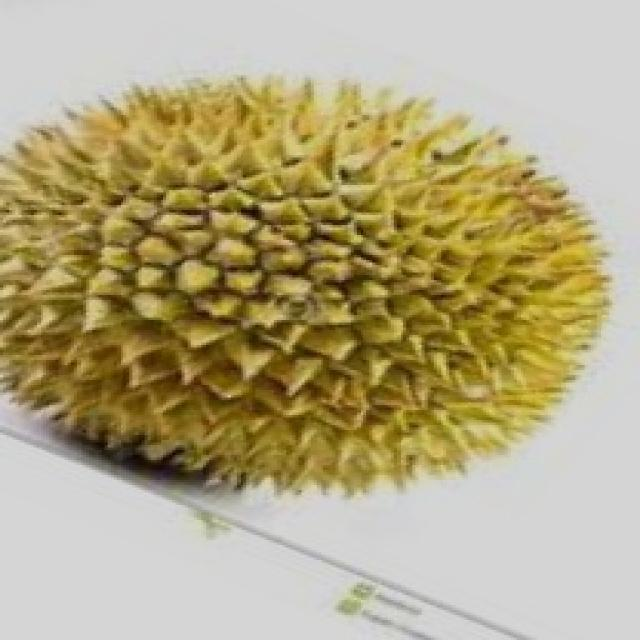fruit: (295, 132, 640, 550), (0, 207, 369, 565)
